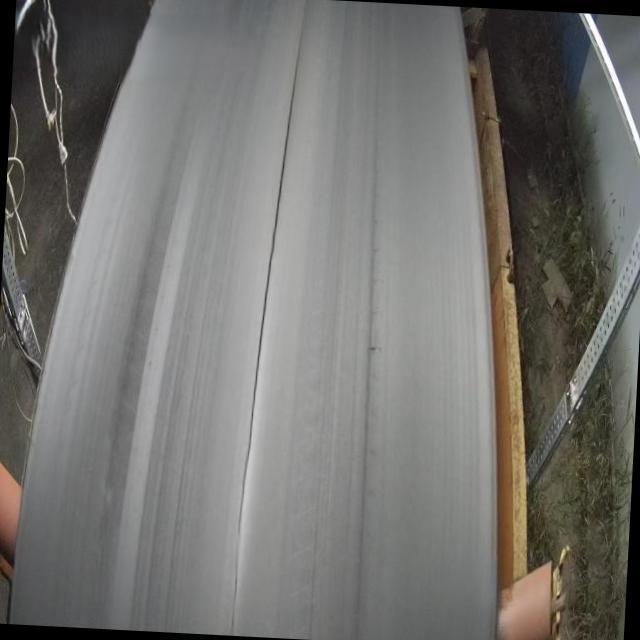Tear: (231, 41, 311, 552)
